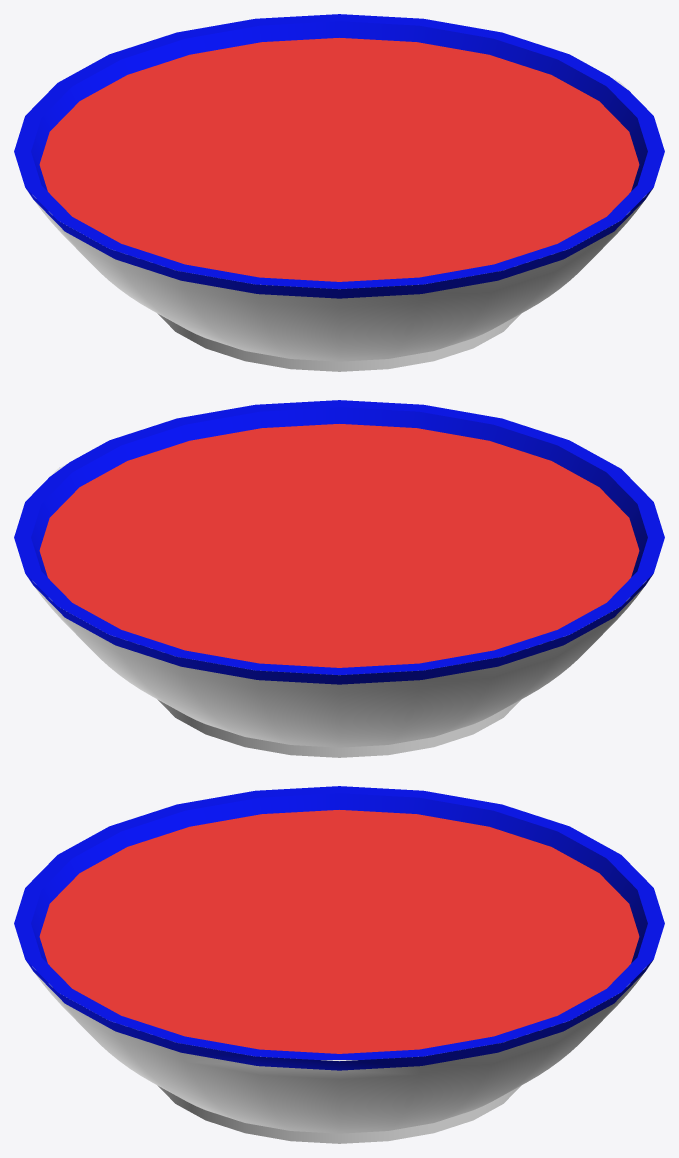
3 views of the same model, one above another, from view 1: azimuth 30°, elevation 25°; view 2: azimuth 150°, elevation 25°; view 3: azimuth 270°, elevation 25° (orthographic).
Parts seen in each view (by area): view 1: mesh1-geometry-3, mesh1-geometry-2, mesh1-geometry-1; view 2: mesh1-geometry-3, mesh1-geometry-2, mesh1-geometry-1; view 3: mesh1-geometry-3, mesh1-geometry-2, mesh1-geometry-1.
Part boxes in pixels (left/top/right/bottom): mesh1-geometry-3: left=39, top=38, right=639, bottom=281; mesh1-geometry-2: left=14, top=14, right=664, bottom=298; mesh1-geometry-1: left=34, top=200, right=644, bottom=371; mesh1-geometry-3: left=39, top=424, right=639, bottom=667; mesh1-geometry-2: left=14, top=400, right=664, bottom=684; mesh1-geometry-1: left=34, top=586, right=644, bottom=757; mesh1-geometry-3: left=39, top=810, right=639, bottom=1053; mesh1-geometry-2: left=14, top=786, right=664, bottom=1070; mesh1-geometry-1: left=34, top=972, right=644, bottom=1143.
Bounding box in the file's own units: 0.6973 × 0.1658 × 0.6973.
